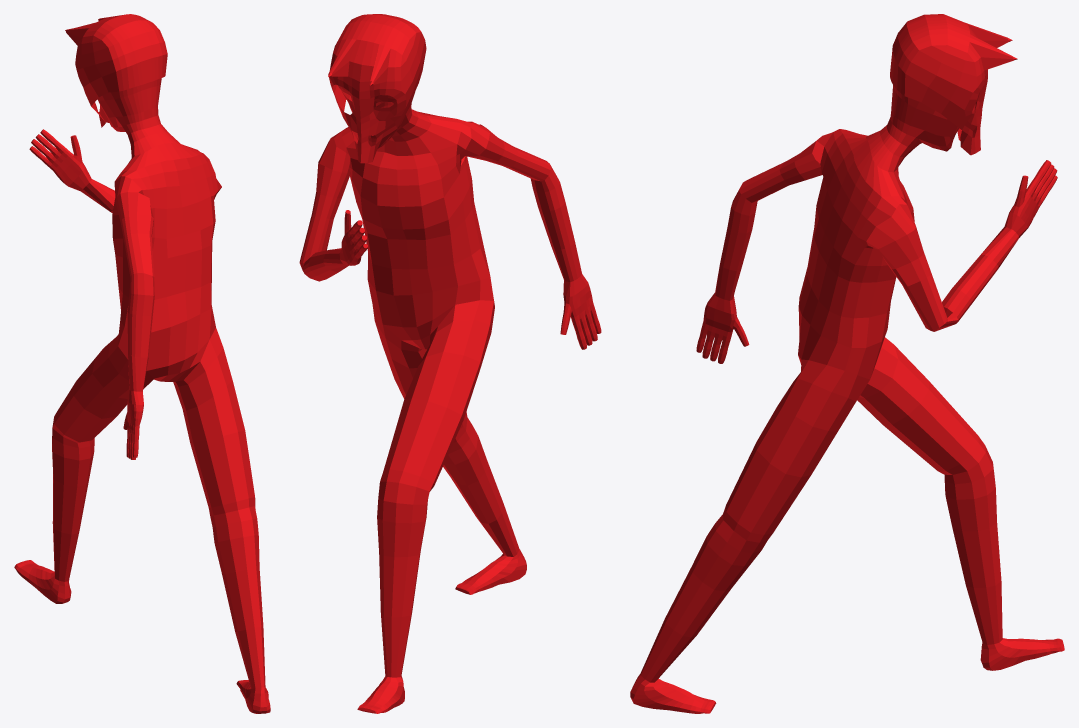
Rendered from marchaE_000039.obj.
3 views of the same model, side by side, from view 1: azimuth 30°, elevation 25°; view 2: azimuth 150°, elevation 25°; view 3: azimuth 270°, elevation 25° (orthographic). The views are drawn at different scales.
Visible parts, largest first — view 1: Plane.002_Plane.001; view 2: Plane.002_Plane.001; view 3: Plane.002_Plane.001.
Part boxes in pixels (box(x1,y1,x2,y2)): Plane.002_Plane.001: box(14, 14, 270, 713); Plane.002_Plane.001: box(299, 14, 601, 713); Plane.002_Plane.001: box(630, 14, 1064, 713).
Size of the model in its own units: 1.92 by 6.54 by 3.8.
